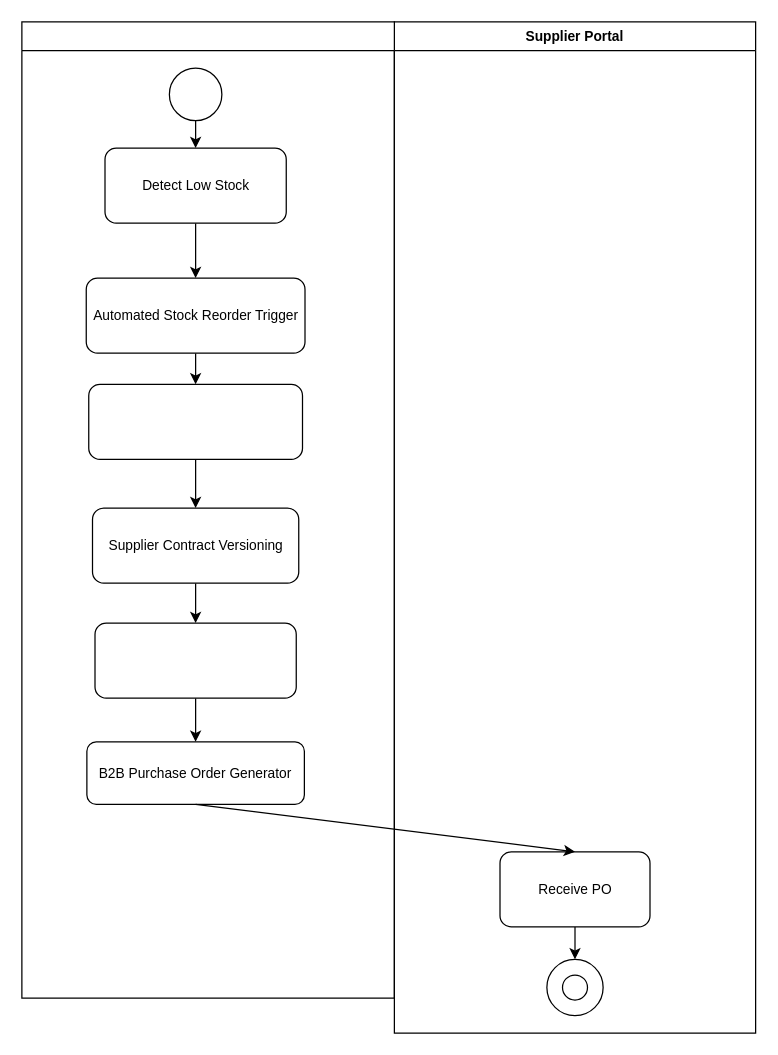
The diagram is 778 pixels wide and 1055 high, and some of its shapes have lost their labels. The shapes that lost their labels are listed below. From the top down, each one's box as (x1, y1, x2, y2) in pixels, then its label:
(88, 383, 302, 459): Tiered Supplier Selection Logic
(21, 21, 394, 998): System Engine
(94, 622, 296, 698): Supplier Lead-Time Estimator
